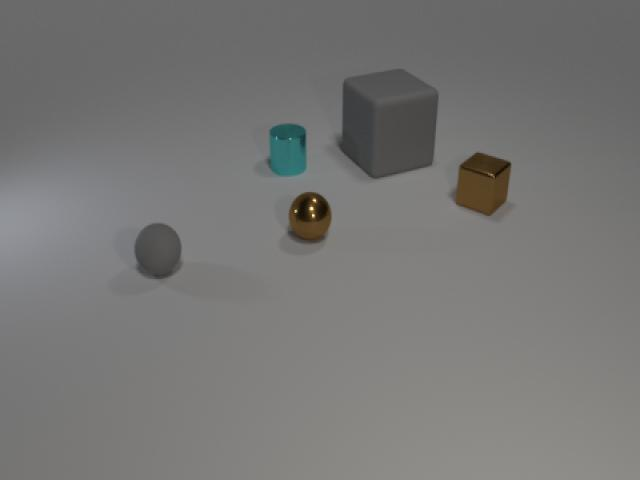cylinder: (264, 116, 311, 184)
round ball: (128, 214, 188, 284), (284, 188, 336, 246)
